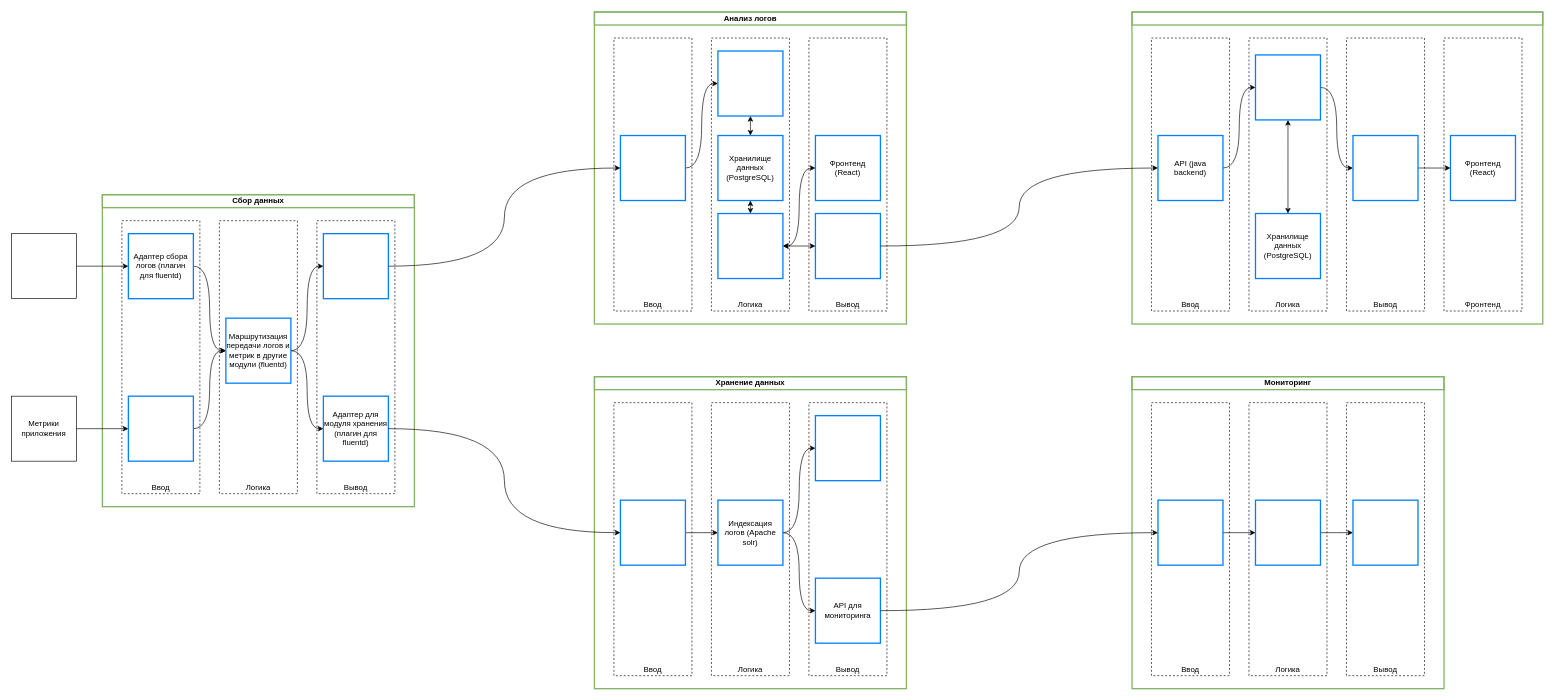
Some shapes in this 1555 by 700 pixel diagram are drawn without their labels. The shapes that lost their labels are listed below. From the top down, each one's box as (x1, y1, x2, y2) in pixels, then its label:
(1131, 11, 1543, 25): База знаний по инцидентам
(717, 50, 783, 116): ИИ
(1254, 54, 1321, 120): Система управления базой знаний (java backend)
(619, 135, 686, 201): Адаптер модуля анализа логов
(1352, 135, 1418, 201): API для фронтетда (java backend)
(11, 233, 76, 299): Логи приложения
(322, 233, 389, 299): Адаптер для модуля анализа (плагин fluentd)
(717, 213, 783, 279): Система управления интеграциями с результатами работы ИИ (java backend)
(814, 213, 881, 279): API для потребителей (java backend)
(127, 395, 194, 462): Адаптер сбора метрик (плагин для fluentd)
(814, 415, 881, 481): UI (Kibana)
(619, 499, 686, 566): Адаптер сбора логов (плагин Apache solr)
(1157, 499, 1223, 566): Адаптер интеграции для Apache solr
(1254, 499, 1321, 566): Мониторинг состояния систем (java backend)
(1352, 499, 1418, 566): UI (Graphana)
